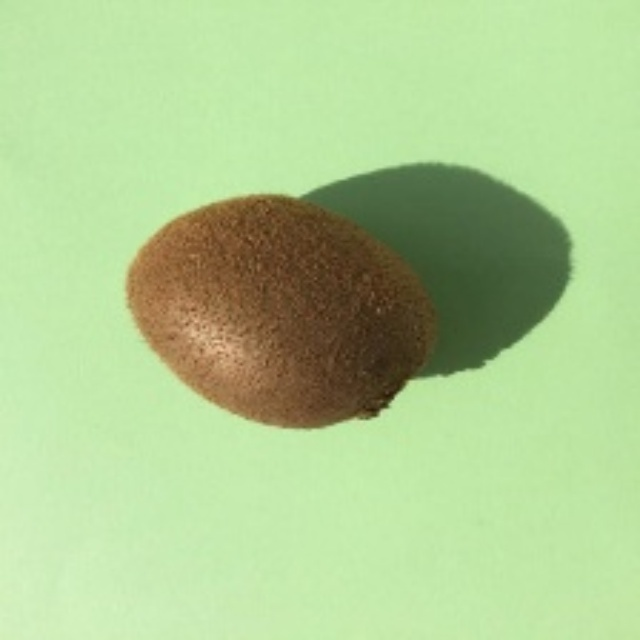kiwi: (122, 196, 426, 441)
